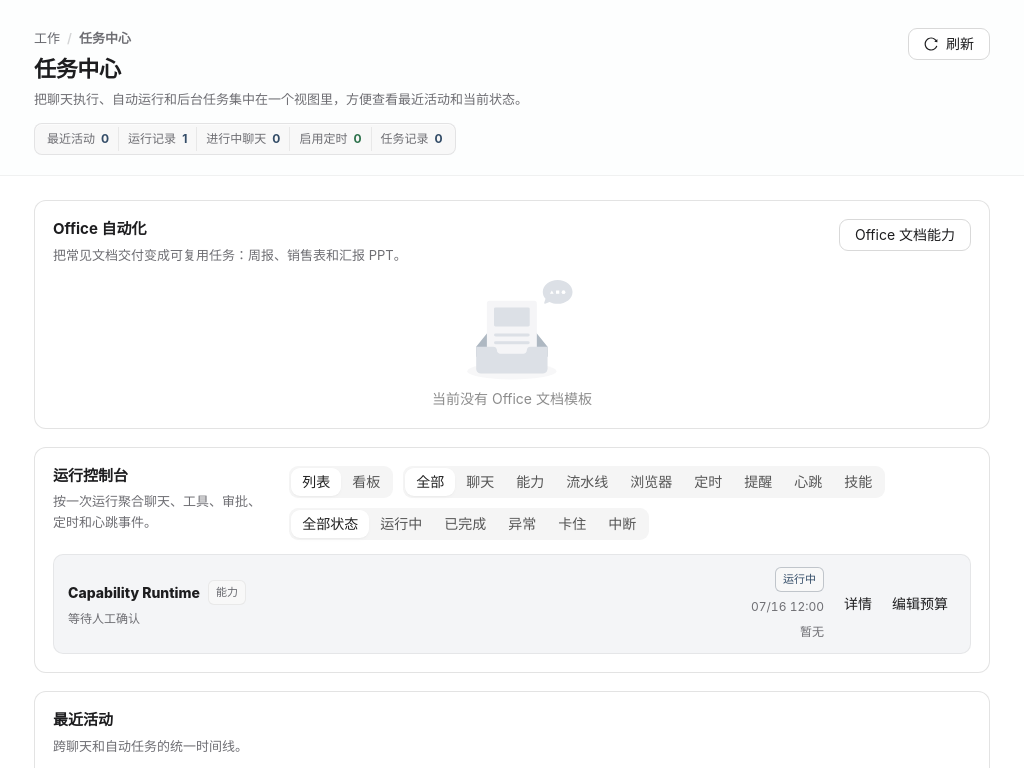
Test case: TaskCenterPage › renders canonical runtime projection control fields
The image size is (1024, 768).
Check: the element "运行控制台" is shown, box [34,447,990,673]
Check: the text "Capability Runtime" is shown, box [68,582,200,604]
Click the button "Capability Runtime 能力 等待人工确认" at (134, 592), box [68,580,739,628]
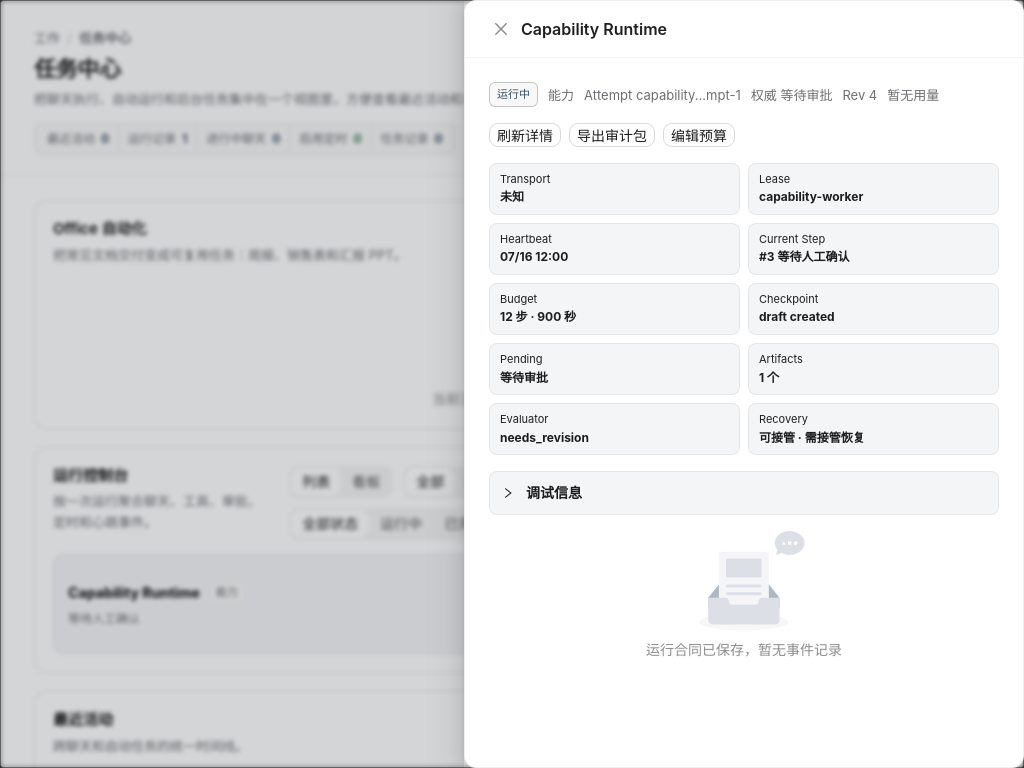
Check: the text "Current Step" is shown, box [759,232,825,246]
Check: the text "Attempt capability...mpt-1" is shown, box [584,86,741,102]
Check: the text "权威 等待审批" is shown, box [751,85,832,104]
